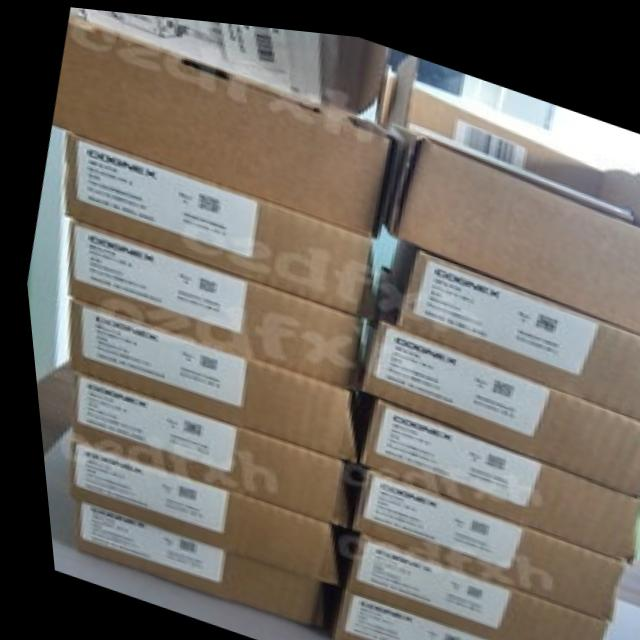box: (49, 14, 399, 231), (354, 263, 640, 485), (60, 128, 368, 309), (378, 117, 640, 322), (60, 219, 355, 384), (381, 234, 640, 413), (347, 390, 633, 550), (63, 296, 345, 455), (62, 371, 338, 521), (342, 460, 616, 609), (58, 441, 328, 579), (63, 497, 312, 623), (334, 526, 599, 640), (319, 581, 506, 640)
